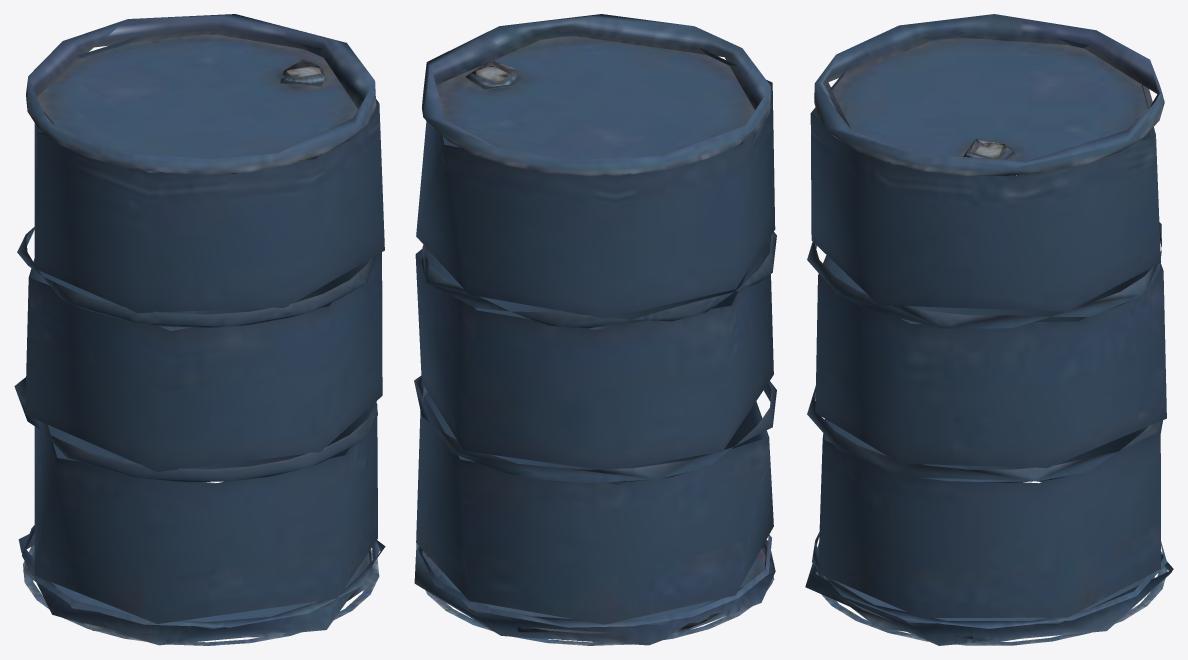
The model's file is barrel.glb.
3 views of the same model, side by side, from view 1: azimuth 30°, elevation 25°; view 2: azimuth 150°, elevation 25°; view 3: azimuth 270°, elevation 25° (orthographic).
Visible parts, largest first — view 1: barrel; view 2: barrel; view 3: barrel.
Boxes of the visible parts, box(x1,y1,x2,y2) form: barrel: box(14, 14, 385, 645); barrel: box(414, 14, 776, 645); barrel: box(805, 14, 1173, 645).
Size of the model in its own units: 0.6416 by 0.9327 by 0.6447.
1 material, 1 textured.
